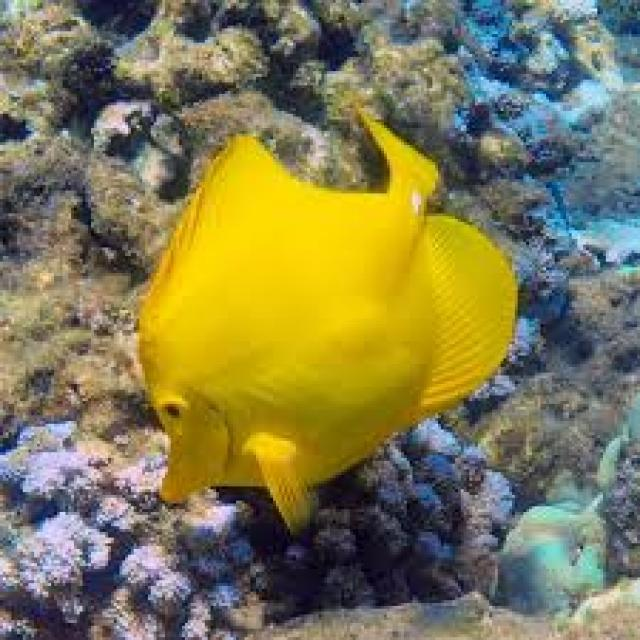YellowTang: (122, 96, 531, 537)
